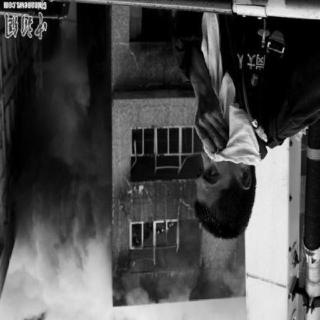Fire: (24, 46, 100, 183), (153, 220, 201, 268)
Smoke: (12, 179, 108, 312)
